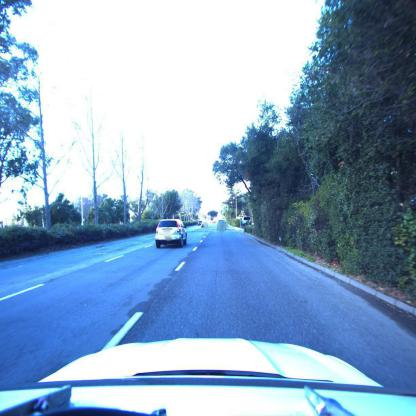car: (155, 219, 188, 249), (216, 218, 229, 231), (242, 215, 251, 226), (200, 219, 208, 228), (197, 220, 202, 226)
